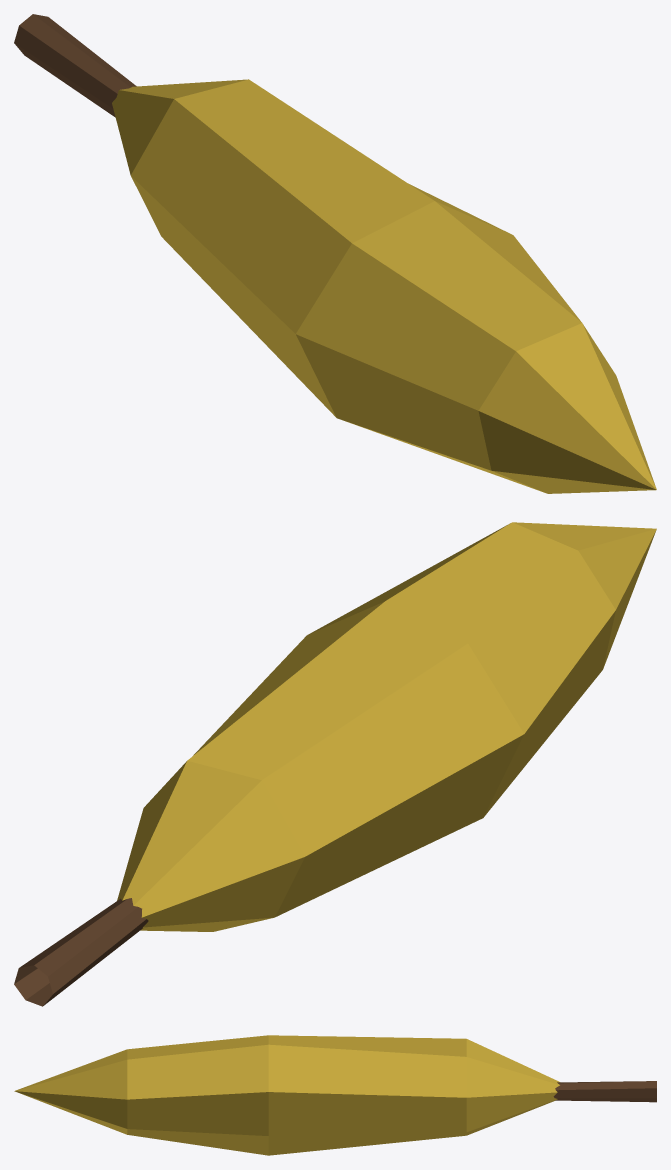
Rendered from growth_2.glb.
3 renders of one model, top to bottom at view 1: azimuth 30°, elevation 25°; view 2: azimuth 150°, elevation 25°; view 3: azimuth 270°, elevation 25°, orthographic. The views are drawn at different scales.
Visible parts, largest first — view 1: tree_02_growth_2; view 2: tree_02_growth_2; view 3: tree_02_growth_2.
Boxes of the visible parts, box(x1,y1,x2,y2) form: tree_02_growth_2: box(14, 14, 656, 493); tree_02_growth_2: box(14, 522, 656, 1006); tree_02_growth_2: box(14, 1035, 656, 1155).
Bounding box in the file's own units: 7.13 × 6.78 × 35.39.
